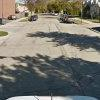Tree: (72, 2, 100, 28)
